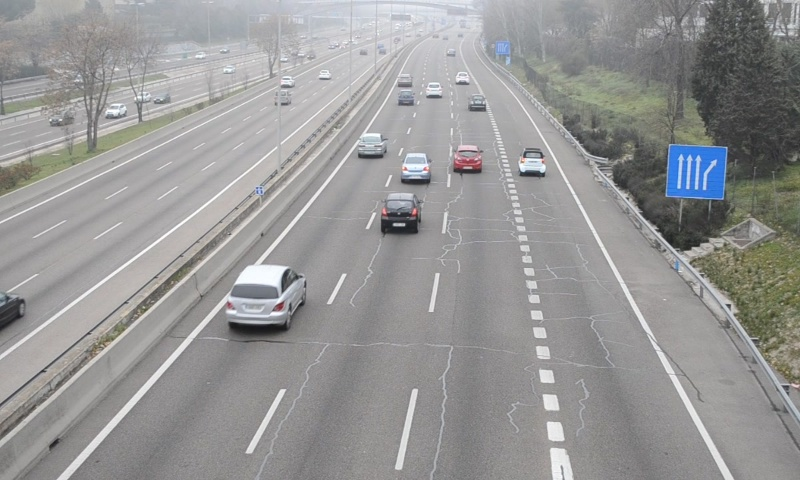car: (224, 263, 306, 326), (382, 192, 422, 236), (400, 152, 432, 186), (454, 144, 484, 174), (518, 147, 546, 177), (357, 133, 387, 159), (468, 94, 487, 112), (397, 89, 416, 107), (425, 81, 443, 99), (396, 73, 414, 87)
